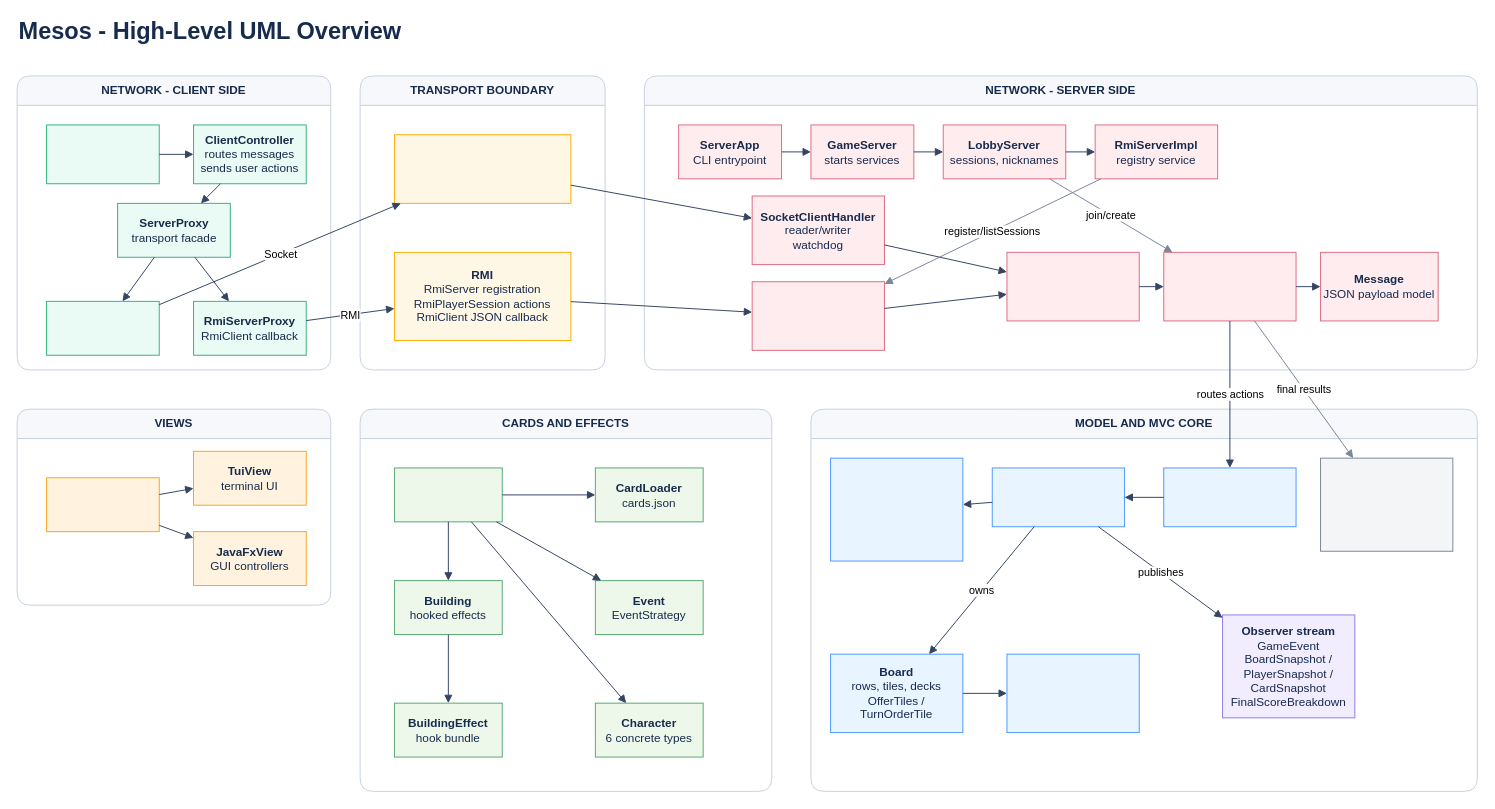
This 1495x809 diagram has some shape labels left out. Here are the shapes that lost their labels. From the top down, the centre of each, then its label:
At point 102,154: "ClientApp starts client selects UI/transport".
At point 482,168: "Socket TCP one UTF-8 JSON Message per line".
At point 1072,286: "ClientConnection transport-neutral server adapter".
At point 1229,286: "GameSession routes actions broadcasts events".
At point 102,327: "SocketServerProxy TCP JSON lines".
At point 817,315: "RmiClientHandler ClientConnection RmiPlayerSession".
At point 102,504: "GameView view contract".
At point 447,494: "Card abstract base".
At point 896,509: "Actions and validation PlayerAction records ActionValidator ValidationResult".
At point 1058,497: "Game authoritative model state machine".
At point 1229,497: "GameController MVC controller".
At point 1386,504: "Persistence DatabaseConfig DatabaseInitializer LeaderboardRepository".
At point 1072,693: "Player / Tribe resources characters and buildings".
